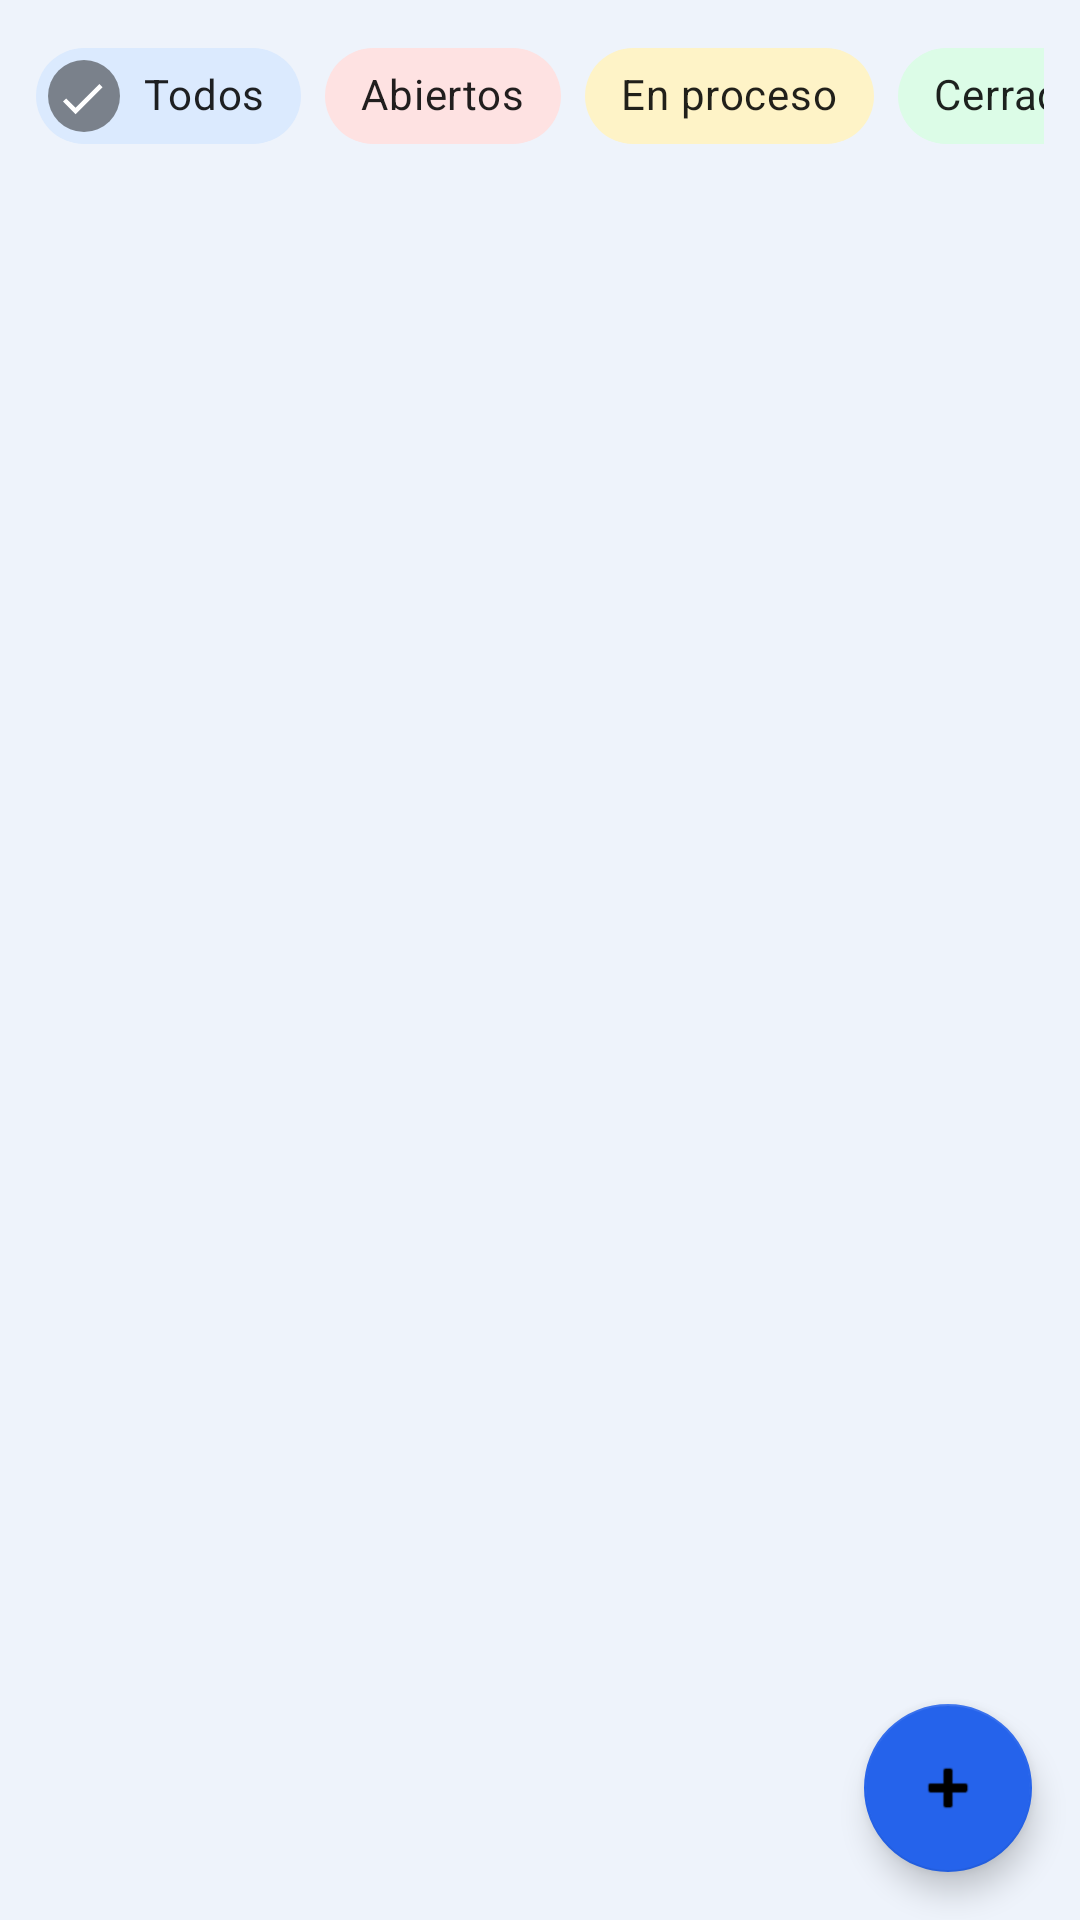

Icons on this 1080*1920 Android screen, each with its box as (x1=x1, y1=y1, x2=x2, y2=y2):
Nuevo reporte: (x1=864, y1=1704, x2=1032, y2=1872)
